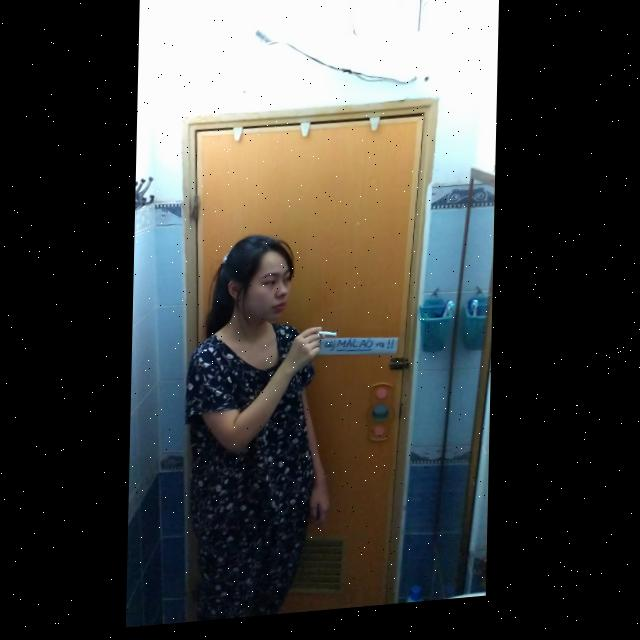cigarette: (317, 336, 338, 343)
